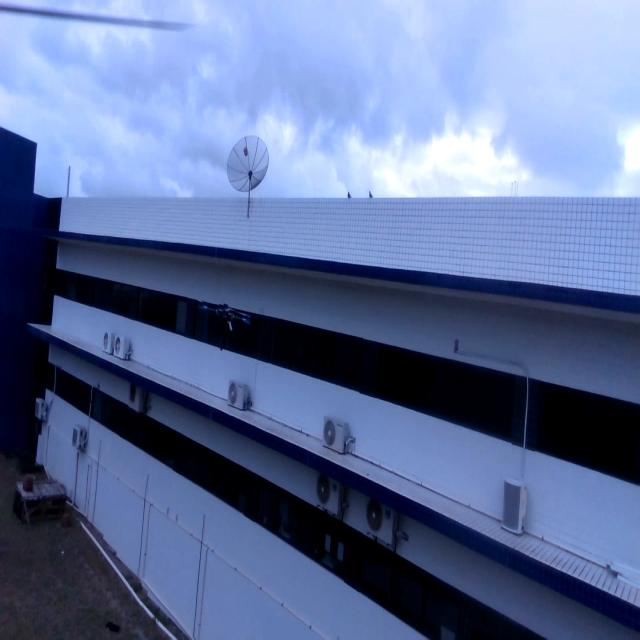-uav-: (188, 274, 254, 360)
